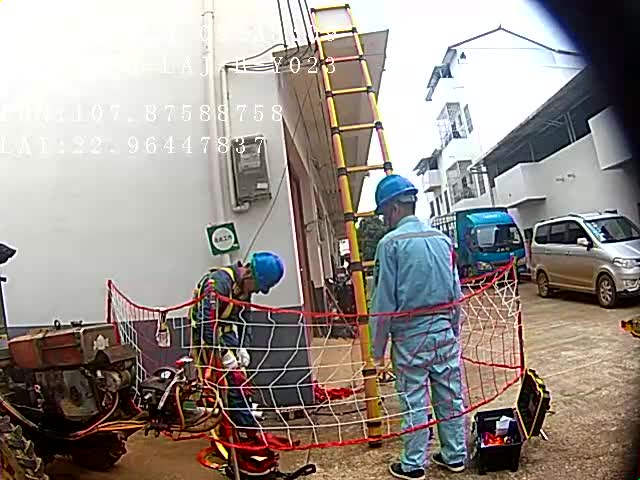downsuit: (392, 327, 467, 468)
halt: (373, 174, 421, 224), (247, 252, 287, 295)
inear: (384, 196, 407, 227), (233, 260, 256, 289)
person: (365, 171, 479, 478), (193, 249, 288, 364)
upsuit: (370, 218, 470, 325), (188, 260, 256, 349)
wglove: (233, 346, 254, 366), (222, 350, 234, 369)
worksign: (200, 220, 245, 255)
